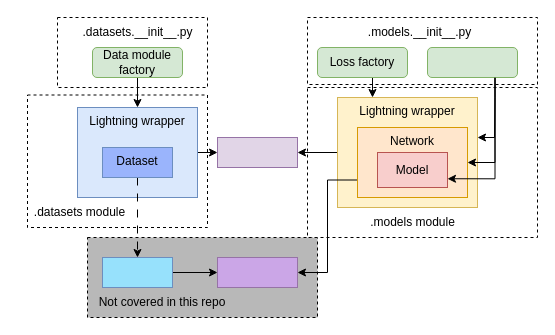
This 555x335 diagram has some shape labels left out. The box of each missing label's shape, as (x1, y1, x2, y2) in pixels:
"Bridge": (102, 256, 172, 288)
Deployment: (216, 256, 298, 288)
Model factory: (426, 46, 518, 78)
Train: (216, 136, 298, 168)
